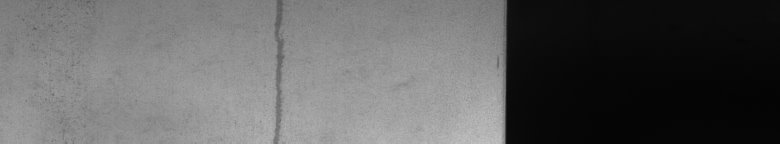hd: (271, 4, 291, 136)
